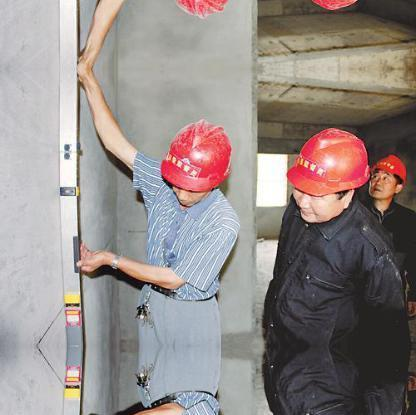helmet: (158, 117, 241, 196), (284, 122, 366, 200), (375, 148, 411, 186)
